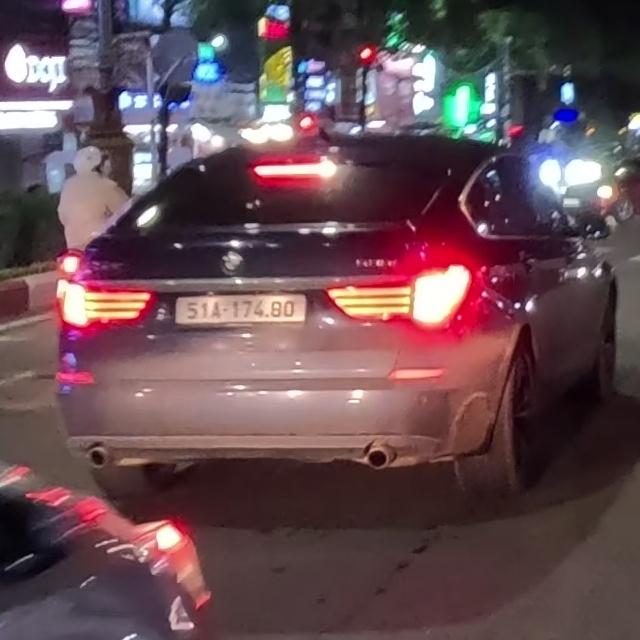license-plate: (174, 287, 308, 334)
